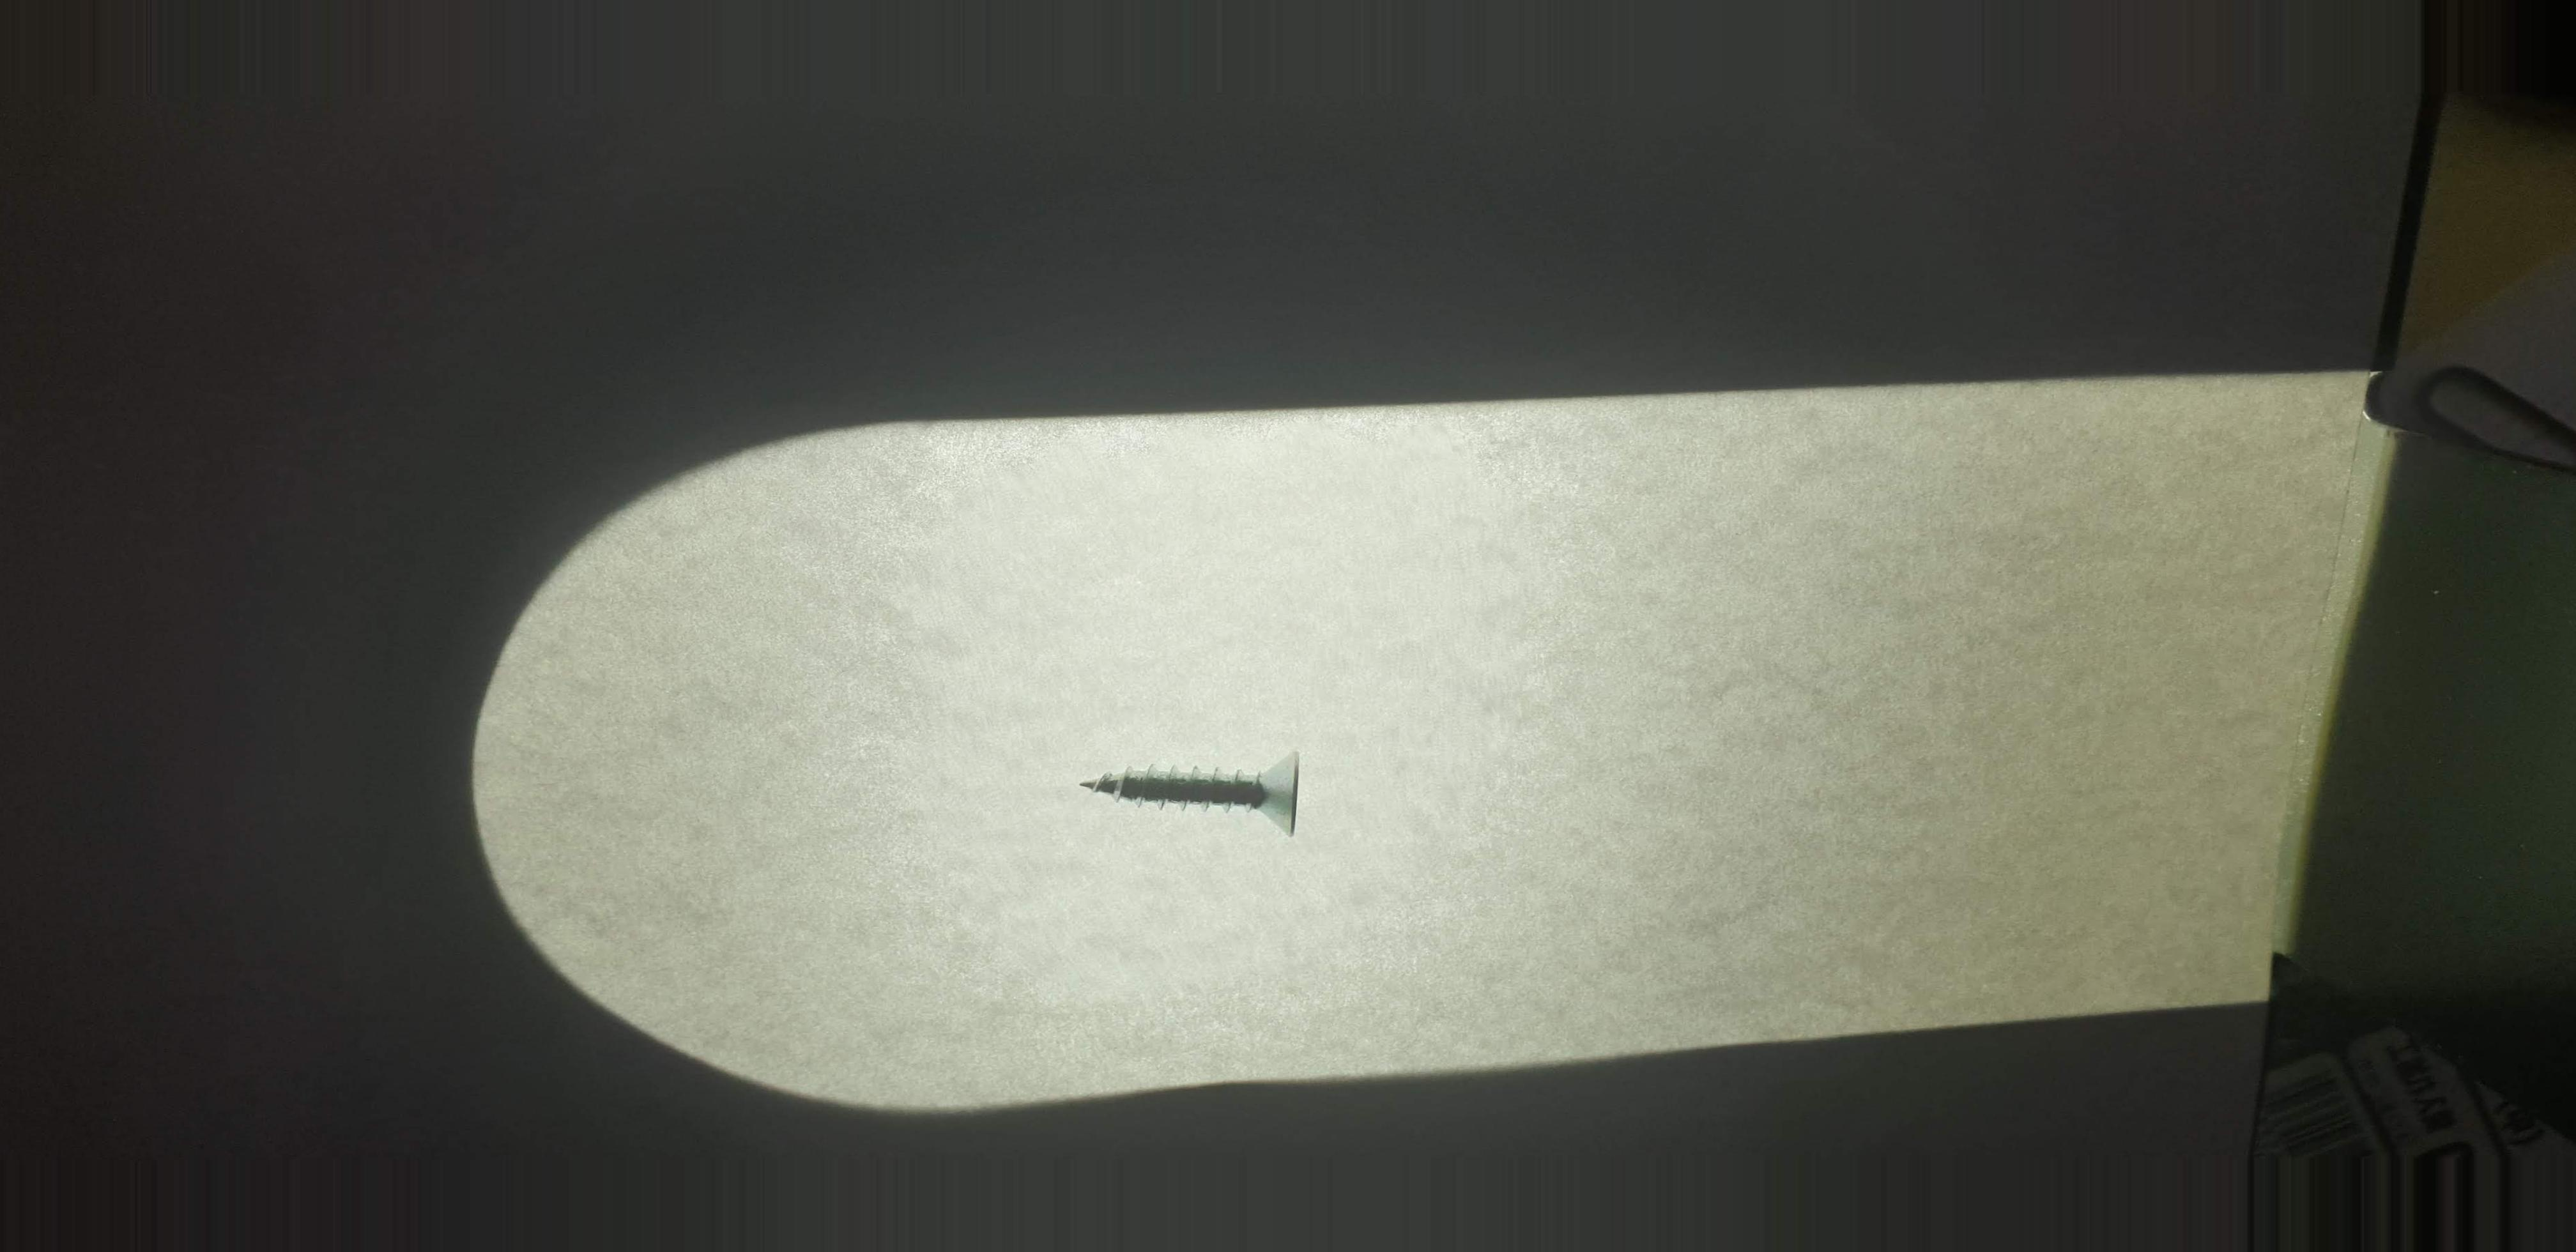S003: (1060, 730, 1347, 859)
